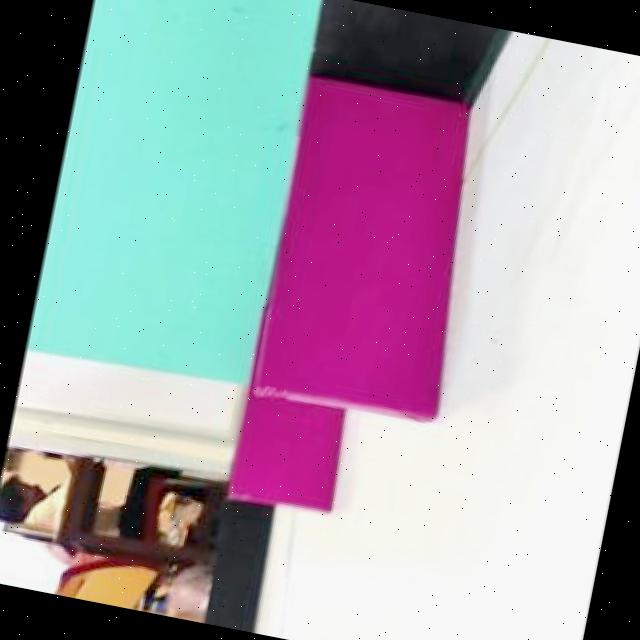xparking: (254, 78, 496, 426), (230, 394, 350, 512)
